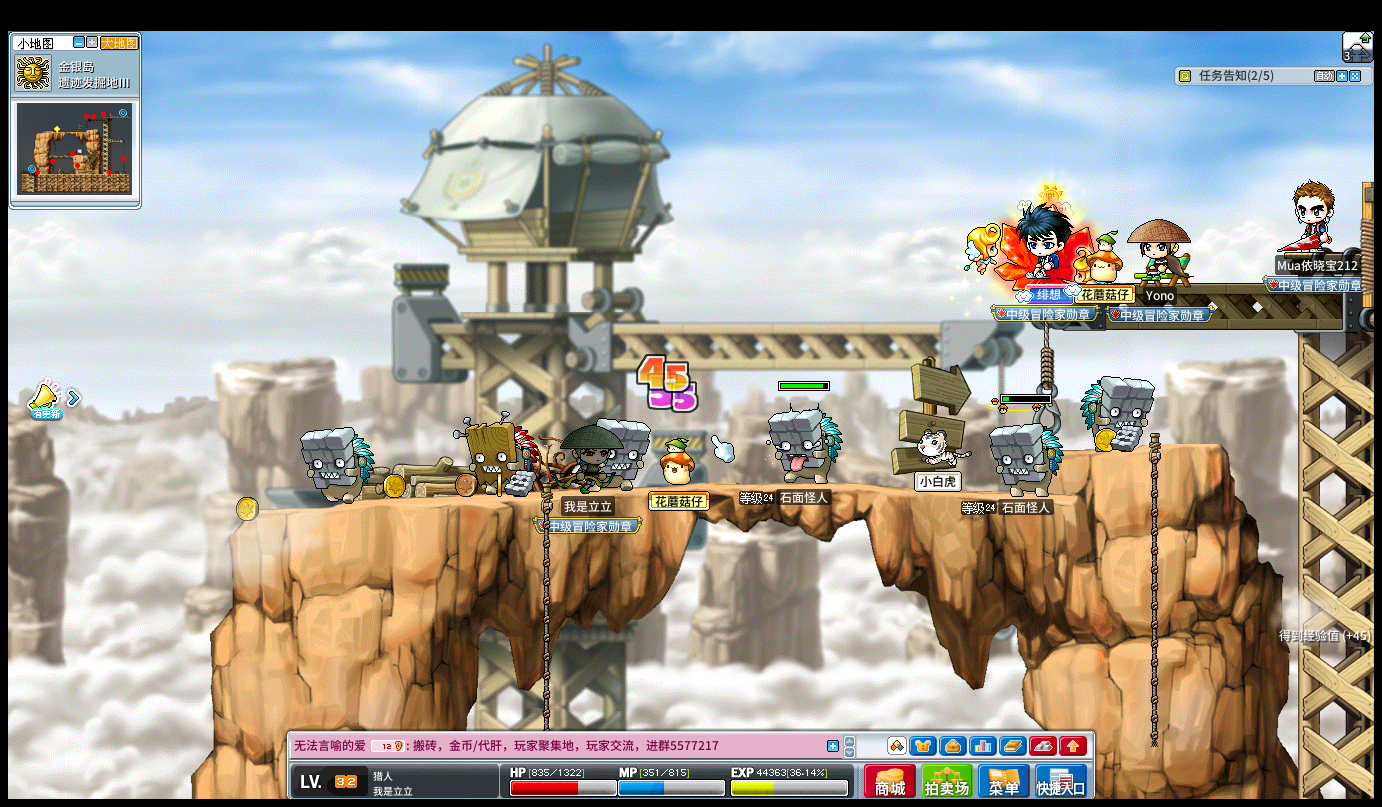floor: (235, 477, 1125, 505), (1067, 439, 1223, 456), (1143, 439, 1224, 455)
monster: (455, 411, 537, 497), (298, 426, 374, 509), (1080, 374, 1155, 453), (767, 408, 842, 484), (988, 423, 1062, 495), (603, 418, 650, 489)
rope: (1145, 425, 1161, 753), (539, 481, 551, 689)
